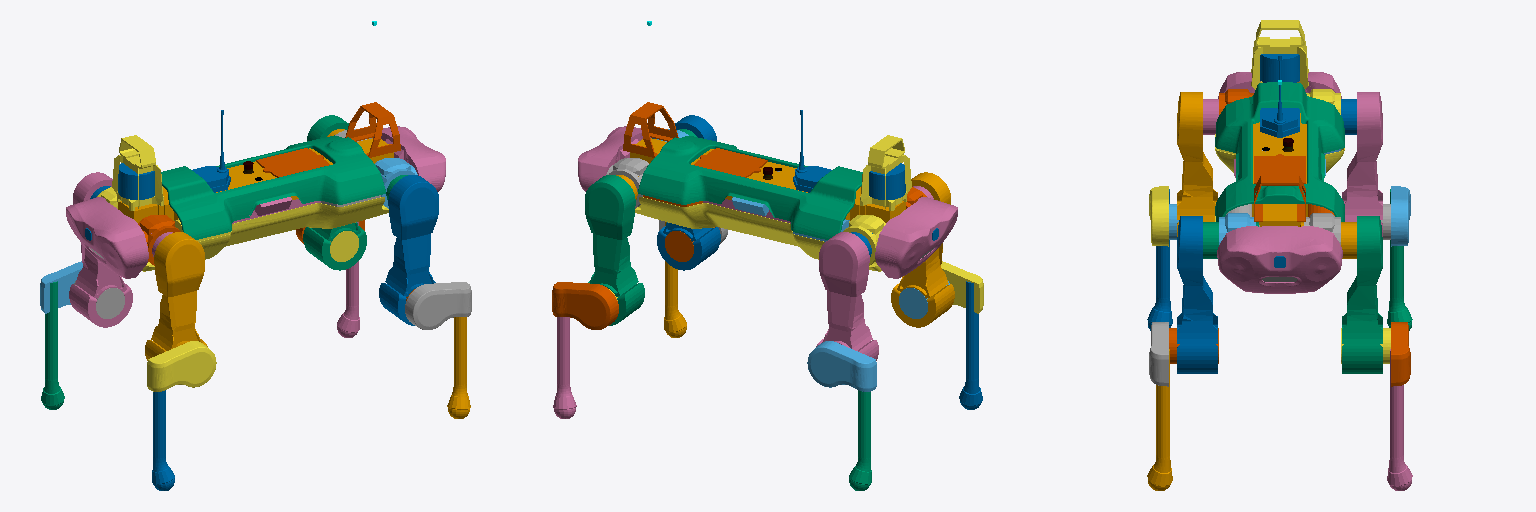
--- Facts derived from the render (not from the file) ---
Views: 3 orthographic renders of the robot side by side, from view 1: azimuth 30°, elevation 25°; view 2: azimuth 150°, elevation 25°; view 3: azimuth 270°, elevation 25°.
Model pentapede with 85 links and 84 joints (18 revolute, 66 fixed), rooted at base, posed every joint at zero.
Links seen in each view (by area): view 1: top_shell, RF_thigh_fixed, RH_thigh_fixed, face_rear, bottom_shell, LH_thigh_fixed, RH_shank_fixed, RF_shank_fixed, LF_thigh_fixed, base, lidar_cage, face_front (+13 smaller); view 2: top_shell, LF_thigh_fixed, LH_thigh_fixed, face_rear, bottom_shell, RH_thigh_fixed, LH_shank_fixed, LF_shank_fixed, RF_thigh_fixed, lidar_cage, base, face_front (+13 smaller); view 3: top_shell, face_front, LF_thigh_fixed, RF_thigh_fixed, RH_thigh_fixed, LH_thigh_fixed, base, lidar_cage, LF_FOOT, RF_FOOT, LH_FOOT, RH_FOOT (+14 smaller).
Link boxes in pixels (x1,y1,x2,y2): top_shell: (161,135,385,239); RF_thigh_fixed: (379,175,438,325); RH_thigh_fixed: (145,232,207,360); face_rear: (66,197,148,278); bottom_shell: (142,197,388,271); LH_thigh_fixed: (69,172,132,327); RH_shank_fixed: (147,341,216,391); RF_shank_fixed: (405,282,471,329); LF_thigh_fixed: (303,115,366,270); base: (118,138,393,222); lidar_cage: (112,135,163,210); face_front: (373,126,445,191); top_shell: (638,136,862,239); LF_thigh_fixed: (585,175,644,325); LH_thigh_fixed: (816,232,878,360); face_rear: (875,197,957,278); bottom_shell: (635,197,881,271); RH_thigh_fixed: (891,172,954,327); LH_shank_fixed: (807,341,876,391); LF_shank_fixed: (552,282,618,329); RF_thigh_fixed: (657,115,720,270); lidar_cage: (860,135,911,210); base: (630,138,905,222); face_front: (578,126,650,191); top_shell: (1215,82,1344,221); face_front: (1217,226,1342,293); LF_thigh_fixed: (1342,216,1382,373); RF_thigh_fixed: (1177,216,1217,373); RH_thigh_fixed: (1177,92,1217,236); LH_thigh_fixed: (1342,92,1382,236); base: (1252,113,1307,226); lidar_cage: (1251,20,1308,89); LF_FOOT: (1387,349,1412,490); RF_FOOT: (1147,349,1172,490); LH_FOOT: (1387,189,1412,330); RH_FOOT: (1147,189,1172,330).
Size in the robot's own frame: 1.05 by 0.6518 by 1.07 metres.
45 mesh visuals loaded from 25 distinct referenced files (19 Collada DAE); not drawn: 6 (reference not matched to a file when rendering).

The robot description file, URDF, robot "pentapede":
<?xml version="1.0" encoding="utf-8"?>
<!-- =================================================================================== -->
<!--   Copyright 2020 ANYbotics, https://www.anybotics.com                               -->
<!-- =================================================================================== -->
<!-- This file contains the description of the Pentapede robot. -->
<robot name="pentapede">
    <!-- Begin quadropod -->
    <!-- Base link -->
    <link name="base">
        <visual>
            <origin rpy="0 0 0" xyz="0 0 0"/>
            <geometry>
                <mesh filename="package://pentapede/meshes/base.dae" scale="1.0 1.0 1.0"/>
            </geometry>
        </visual>
        <collision>
            <origin rpy="0 0 0" xyz="0 0 0"/>
            <geometry>
                <box size="0.58 0.14 0.18"/>
            </geometry>
        </collision>
        <collision>
            <origin rpy="0 1.57079632679 0" xyz="0.2175 0.07 0"/>
            <geometry>
                <cylinder length="0.145" radius="0.09"/>
            </geometry>
        </collision>
        <collision>
            <origin rpy="0 1.57079632679 0" xyz="-0.2175 0.07 0"/>
            <geometry>
                <cylinder length="0.145" radius="0.09"/>
            </geometry>
        </collision>
        <collision>
            <origin rpy="0 1.57079632679 0" xyz="0.2175 -0.07 0"/>
            <geometry>
                <cylinder length="0.145" radius="0.09"/>
            </geometry>
        </collision>
        <collision>
            <origin rpy="0 1.57079632679 0" xyz="-0.2175 -0.07 0"/>
            <geometry>
                <cylinder length="0.145" radius="0.09"/>
            </geometry>
        </collision>
        <!-- Shell self filtering -->
        <self_filter>
            <origin rpy="0 0 0" xyz="0 0 0"/>
            <geometry>
                <box size="1.05 0.5 0.5"/>
            </geometry>
        </self_filter>
    </link>
    <!-- Fixed joint to add dummy inertia link -->
    <joint name="base_to_base_inertia" type="fixed">
        <parent link="base"/>
        <child link="base_inertia"/>
        <origin rpy="0 0 0" xyz="0 0 0"/>
    </joint>
    <!-- Dummy inertia link, because KDL cannot have inertia on the base link -->
    <link name="base_inertia">
        <inertial>
            <origin rpy="0 0 0" xyz="-0.018 -0.002 0.024"/>
            <mass value="6.222"/>
            <inertia ixx="0.017938806" ixy="0.00387963" ixz="0.001500772" iyy="0.370887745" iyz="6.8963e-05" izz="0.372497653"/>
        </inertial>
    </link>
    <!-- Fixed joint base topshell -->
    <joint name="base_top_shell" type="fixed">
        <parent link="base"/>
        <child link="top_shell"/>
        <origin rpy="0 0 0" xyz="0 0 0"/>
    </joint>
    <!-- Top shell link -->
    <link name="top_shell">
        <visual>
            <origin rpy="0 0 0" xyz="0 0 0"/>
            <geometry>
                <mesh filename="package://pentapede/meshes/top_shell.dae" scale="1.0 1.0 1.0"/>
            </geometry>
        </visual>
        <inertial>
            <origin rpy="0 0 0" xyz="-0.00777 -0.00013 0.06523"/>
            <mass value="0.534"/>
            <inertia ixx="0.00664789486" ixy="1.247923e-05" ixz="0.00053990097" iyy="0.02587392411" iyz="3.7614e-07" izz="0.03152303792"/>
        </inertial>
    </link>
    <!-- Fixed joint base topshell -->
    <joint name="base_bottom_shell" type="fixed">
        <parent link="base"/>
        <child link="bottom_shell"/>
        <origin rpy="0 0 0" xyz="0 0 0"/>
    </joint>
    <!-- Bottom shell link -->
    <link name="bottom_shell">
        <visual>
            <origin rpy="0 0 0" xyz="0 0 0"/>
            <geometry>
                <mesh filename="package://pentapede/meshes/bottom_shell.dae" scale="1.0 1.0 1.0"/>
            </geometry>
        </visual>
        <inertial>
            <origin rpy="0 0 0" xyz="-0.00333 1e-05 -0.07705"/>
            <mass value="1.15"/>
            <inertia ixx="0.00927353677" ixy="5.41222e-06" ixz="9.039821e-05" iyy="0.06134388239" iyz="2.3042e-07" izz="0.06853531465"/>
        </inertial>
    </link>
    <!-- Fixed joint base remote -->
    <joint name="base_remote" type="fixed">
        <parent link="base"/>
        <child link="remote"/>
        <origin rpy="0 0 0" xyz="0 0 0"/>
    </joint>
    <!-- Remote link -->
    <link name="remote">
        <visual>
            <origin rpy="0 0 0" xyz="0 0 0"/>
            <geometry>
                <mesh filename="package://pentapede/meshes/remote.dae" scale="1.0 1.0 1.0"/>
            </geometry>
        </visual>
        <inertial>
            <origin rpy="0 0 0" xyz="-0.171 0.002 0.096"/>
            <mass value="0.3262"/>
            <inertia ixx="0.000528486" ixy="4.547e-05" ixz="1.10327e-05" iyy="0.001165035" iyz="7.4e-07" izz="0.00124026"/>
        </inertial>
    </link>
    <!-- Fixed joint base handle -->
    <joint name="base_handle" type="fixed">
        <parent link="base"/>
        <child link="handle"/>
        <origin rpy="0 0 0" xyz="0 0 0"/>
    </joint>
    <!-- Handle link -->
    <link name="handle">
        <visual>
            <origin rpy="0 0 0" xyz="0 0 0"/>
            <geometry>
                <mesh filename="package://pentapede/meshes/handle.dae" scale="1.0 1.0 1.0"/>
            </geometry>
        </visual>
        <inertial>
            <origin rpy="0 0 0" xyz="0.37801 0.0 0.1372"/>
            <mass value="0.314"/>
            <inertia ixx="0.001525739" ixy="0.0" ixz="6.272e-05" iyy="0.00071584" iyz="1e-09" izz="0.001164779"/>
        </inertial>
    </link>
    <!-- Fixed joint base face -->
    <joint name="base_face_front" type="fixed">
        <parent link="base"/>
        <child link="face_front"/>
        <origin rpy="0 0 -0.0" xyz="0.4145 0 0"/>
    </joint>
    <!-- Shell link -->
    <link name="face_front">
        <visual>
            <origin rpy="0 0 0" xyz="0 0 0"/>
            <geometry>
                <mesh filename="package://pentapede/meshes/face.dae" scale="1.0 1.0 1.0"/>
            </geometry>
        </visual>
        <collision>
            <origin rpy="0 0 0" xyz="0.055 0 0"/>
            <geometry>
                <box size="0.11 0.14 0.18"/>
            </geometry>
        </collision>
        <collision>
            <origin rpy="0 1.57079632679 0" xyz="0.055 0.07 0"/>
            <geometry>
                <cylinder length="0.11" radius="0.09"/>
            </geometry>
        </collision>
        <collision>
            <origin rpy="0 1.57079632679 0" xyz="0.055 -0.07 0"/>
            <geometry>
                <cylinder length="0.11" radius="0.09"/>
            </geometry>
        </collision>
        <inertial>
            <origin rpy="0 0 0" xyz="0.042 -0.001 0.004"/>
            <mass value="0.73"/>
            <inertia ixx="0.005238611" ixy="1.7609e-05" ixz="7.2167e-05" iyy="0.002643098" iyz="1.9548e-05" izz="0.004325938"/>
        </inertial>
    </link>
    <!-- Camera joint -->
    <!-- Is located between the two back screw holes at ground level. -->
    <joint name="face_front_to_depth_camera_front_camera" type="fixed">
        <parent link="face_front"/>
        <child link="depth_camera_front_camera"/>
        <origin rpy="0.0 0.523598775598 0" xyz="0.04715 0.0 -0.0292"/>
    </joint>
    <!-- Camera link -->
    <link name="depth_camera_front_camera">
        <visual>
            <origin rpy="0 0 0" xyz="0.0 0.0 0.0"/>
            <geometry>
                <mesh filename="package://pentapede/meshes/depth_camera.dae" scale="1.0 1.0 1.0"/>
            </geometry>
        </visual>
        <inertial>
            <origin rpy="0 0 0" xyz="-0.021 -0.002 0.025"/>
            <mass value="0.16043"/>
            <inertia ixx="0.000637051" ixy="0.000484569" ixz="0.000424211" iyy="0.000929402" iyz="5.138e-06" izz="0.000484569"/>
        </inertial>
    </link>
    <!-- Camera parent joint -->
    <!-- Frame lies on the left ir camera according to any_realsense2_camera urdf. -->
    <joint name="depth_camera_front_camera_to_camera_parent" type="fixed">
        <parent link="depth_camera_front_camera"/>
        <child link="depth_camera_front_camera_parent"/>
        <origin rpy="0.0 0.0 0.0" xyz="0.0255 0.0175 0.0"/>
    </joint>
    <!-- Camera parent link -->
    <link name="depth_camera_front_camera_parent"/>
    <!-- Depth optical frame joint -->
    <joint name="depth_camera_front_camera_parent_to_depth_optical_frame" type="fixed">
        <parent link="depth_camera_front_camera_parent"/>
        <child link="depth_camera_front_depth_optical_frame"/>
        <origin rpy="-1.57079632679 0.0 -1.57079632679" xyz="0.0 0.0 0.0"/>
    </joint>
    <!-- Depth optical frame link -->
    <link name="depth_camera_front_depth_optical_frame"/>
    <!-- Camera color frame joint -->
    <joint name="depth_camera_front_camera_parent_to_color_frame" type="fixed">
        <parent link="depth_camera_front_camera_parent"/>
        <child link="depth_camera_front_color_frame"/>
        <origin rpy="0 0 0" xyz="0 0.015 0"/>
    </joint>
    <!-- Camera color frame link -->
    <link name="depth_camera_front_color_frame"/>
    <!-- Camera color optical joint -->
    <joint name="depth_camera_front_color_frame_to_color_optical_frame" type="fixed">
        <parent link="depth_camera_front_color_frame"/>
        <child link="depth_camera_front_color_optical_frame"/>
        <origin rpy="-1.57079632679 0.0 -1.57079632679" xyz="0.0 0.0 0.0"/>
    </joint>
    <!-- Camera color optical link -->
    <link name="depth_camera_front_color_optical_frame"/>
    <!-- Camera joint -->
    <!-- Is located in the center of the mounting points. -->
    <joint name="face_front_to_wide_angle_camera_front_camera" type="fixed">
        <parent link="face_front"/>
        <child link="wide_angle_camera_front_camera"/>
        <origin rpy="0 0 0" xyz="0.09850 0.0 0.01497"/>
    </joint>
    <!-- Camera link -->
    <link name="wide_angle_camera_front_camera">
        <visual>
            <origin rpy="0 0 0" xyz="0.0 0.0 0.0"/>
            <geometry>
                <mesh filename="package://pentapede/meshes/wide_angle_camera.dae" scale="1.0 1.0 1.0"/>
            </geometry>
        </visual>
        <inertial>
            <origin rpy="0 0 0" xyz="-0.053 -0.001 0.025"/>
            <mass value="0.287"/>
            <inertia ixx="0.000559232" ixy="1.6875e-05" ixz="0.000423761" iyy="0.000946504" iyz="1.3234e-07" izz="0.000493052"/>
        </inertial>
    </link>
    <!-- Camera parent joint -->
    <joint name="wide_angle_camera_front_camera_to_camera_parent" type="fixed">
        <parent link="wide_angle_camera_front_camera"/>
        <child link="wide_angle_camera_front_camera_parent"/>
        <origin rpy="-1.57079632679 0.0 -1.57079632679" xyz="0.0 0.0 0.0"/>
    </joint>
    <!-- Camera parent link -->
    <link name="wide_angle_camera_front_camera_parent"/>
    <!-- Fixed joint base face -->
    <joint name="base_face_rear" type="fixed">
        <parent link="base"/>
        <child link="face_rear"/>
        <origin rpy="0 0 3.14159265359" xyz="-0.4145 0 0"/>
    </joint>
    <!-- Shell link -->
    <link name="face_rear">
        <visual>
            <origin rpy="0 0 0" xyz="0 0 0"/>
            <geometry>
                <mesh filename="package://pentapede/meshes/face.dae" scale="1.0 1.0 1.0"/>
            </geometry>
        </visual>
        <collision>
            <origin rpy="0 0 0" xyz="0.055 0 0"/>
            <geometry>
                <box size="0.11 0.14 0.18"/>
            </geometry>
        </collision>
        <collision>
            <origin rpy="0 1.57079632679 0" xyz="0.055 0.07 0"/>
            <geometry>
                <cylinder length="0.11" radius="0.09"/>
            </geometry>
        </collision>
        <collision>
            <origin rpy="0 1.57079632679 0" xyz="0.055 -0.07 0"/>
            <geometry>
                <cylinder length="0.11" radius="0.09"/>
            </geometry>
        </collision>
        <inertial>
            <origin rpy="0 0 0" xyz="0.042 -0.001 0.004"/>
            <mass value="0.73"/>
            <inertia ixx="0.005238611" ixy="1.7609e-05" ixz="7.2167e-05" iyy="0.002643098" iyz="1.9548e-05" izz="0.004325938"/>
        </inertial>
    </link>
    <!-- Camera joint -->
    <!-- Is located between the two back screw holes at ground level. -->
    <joint name="face_rear_to_depth_camera_rear_camera" type="fixed">
        <parent link="face_rear"/>
        <child link="depth_camera_rear_camera"/>
        <origin rpy="0.0 0.523598775598 0" xyz="0.04715 0.0 -0.0292"/>
    </joint>
    <!-- Camera link -->
    <link name="depth_camera_rear_camera">
        <visual>
            <origin rpy="0 0 0" xyz="0.0 0.0 0.0"/>
            <geometry>
                <mesh filename="package://pentapede/meshes/depth_camera.dae" scale="1.0 1.0 1.0"/>
            </geometry>
        </visual>
        <inertial>
            <origin rpy="0 0 0" xyz="-0.021 -0.002 0.025"/>
            <mass value="0.16043"/>
            <inertia ixx="0.000637051" ixy="0.000484569" ixz="0.000424211" iyy="0.000929402" iyz="5.138e-06" izz="0.000484569"/>
        </inertial>
    </link>
    <!-- Camera parent joint -->
    <!-- Frame lies on the left ir camera according to any_realsense2_camera urdf. -->
    <joint name="depth_camera_rear_camera_to_camera_parent" type="fixed">
        <parent link="depth_camera_rear_camera"/>
        <child link="depth_camera_rear_camera_parent"/>
        <origin rpy="0.0 0.0 0.0" xyz="0.0255 0.0175 0.0"/>
    </joint>
    <!-- Camera parent link -->
    <link name="depth_camera_rear_camera_parent"/>
    <!-- Depth optical frame joint -->
    <joint name="depth_camera_rear_camera_parent_to_depth_optical_frame" type="fixed">
        <parent link="depth_camera_rear_camera_parent"/>
        <child link="depth_camera_rear_depth_optical_frame"/>
        <origin rpy="-1.57079632679 0.0 -1.57079632679" xyz="0.0 0.0 0.0"/>
    </joint>
    <!-- Depth optical frame link -->
    <link name="depth_camera_rear_depth_optical_frame"/>
    <!-- Camera color frame joint -->
    <joint name="depth_camera_rear_camera_parent_to_color_frame" type="fixed">
        <parent link="depth_camera_rear_camera_parent"/>
        <child link="depth_camera_rear_color_frame"/>
        <origin rpy="0 0 0" xyz="0 0.015 0"/>
    </joint>
    <!-- Camera color frame link -->
    <link name="depth_camera_rear_color_frame"/>
    <!-- Camera color optical joint -->
    <joint name="depth_camera_rear_color_frame_to_color_optical_frame" type="fixed">
        <parent link="depth_camera_rear_color_frame"/>
        <child link="depth_camera_rear_color_optical_frame"/>
        <origin rpy="-1.57079632679 0.0 -1.57079632679" xyz="0.0 0.0 0.0"/>
    </joint>
    <!-- Camera color optical link -->
    <link name="depth_camera_rear_color_optical_frame"/>
    <!-- Camera joint -->
    <!-- Is located in the center of the mounting points. -->
    <joint name="face_rear_to_wide_angle_camera_rear_camera" type="fixed">
        <parent link="face_rear"/>
        <child link="wide_angle_camera_rear_camera"/>
        <origin rpy="0 0 0" xyz="0.09850 0.0 0.01497"/>
    </joint>
    <!-- Camera link -->
    <link name="wide_angle_camera_rear_camera">
        <visual>
            <origin rpy="0 0 0" xyz="0.0 0.0 0.0"/>
            <geometry>
                <mesh filename="package://pentapede/meshes/wide_angle_camera.dae" scale="1.0 1.0 1.0"/>
            </geometry>
        </visual>
        <inertial>
            <origin rpy="0 0 0" xyz="-0.053 -0.001 0.025"/>
            <mass value="0.287"/>
            <inertia ixx="0.000559232" ixy="1.6875e-05" ixz="0.000423761" iyy="0.000946504" iyz="1.3234e-07" izz="0.000493052"/>
        </inertial>
    </link>
    <!-- Camera parent joint -->
    <joint name="wide_angle_camera_rear_camera_to_camera_parent" type="fixed">
        <parent link="wide_angle_camera_rear_camera"/>
        <child link="wide_angle_camera_rear_camera_parent"/>
        <origin rpy="-1.57079632679 0.0 -1.57079632679" xyz="0.0 0.0 0.0"/>
    </joint>
    <!-- Camera parent link -->
    <link name="wide_angle_camera_rear_camera_parent"/>
    <!-- Fixed joint base battery -->
    <joint name="base_battery" type="fixed">
        <parent link="base"/>
        <child link="battery"/>
        <origin rpy="0 0 0" xyz="0 0 0"/>
    </joint>
    <!-- Shell link -->
    <link name="battery">
        <visual>
            <origin rpy="0 0 0" xyz="0 0 0"/>
            <geometry>
                <mesh filename="package://pentapede/meshes/battery.dae" scale="1.0 1.0 1.0"/>
            </geometry>
        </visual>
        <inertial>
            <origin rpy="0 0 0" xyz="-0.00067 -0.00023 -0.03362"/>
            <mass value="5.53425"/>
            <inertia ixx="0.00749474794" ixy="0.00016686282" ixz="7.82763e-05" iyy="0.0722338913" iyz="1.42902e-06" izz="0.07482717535"/>
        </inertial>
    </link>
    <!-- Fixed joint to add docking  -->
    <joint name="base_to_docking_hatch_cover" type="fixed">
        <parent link="base"/>
        <child link="docking_hatch_cover"/>
        <origin rpy="0 0 0" xyz="0.343 0.0 -0.07"/>
    </joint>
    <!-- Hatch cover link -->
    <link name="docking_hatch_cover">
        <!--  TODO(fgiraldez): add visual    -->
        <inertial>
            <origin rpy="0 0 0" xyz="-0.003 0.0 0.005"/>
            <mass value="0.065"/>
            <inertia ixx="0.00063283" ixy="0.0" ixz="3.45e-07" iyy="0.00110971" iyz="0.0" izz="0.00171883"/>
        </inertial>
    </link>
    <link name="imu_link">
        <visual>
            <origin rpy="0 0 0" xyz="0 0 0.005"/>
            <geometry>
                <box size="0.024 0.024 0.01"/>
            </geometry>
            <material name="orange"/>
        </visual>
        <collision>
            <origin rpy="0 0 0" xyz="0 0 0.005"/>
            <geometry>
                <box size="0.024 0.024 0.01"/>
            </geometry>
        </collision>
        <inertial>
            <mass value="0.01"/>
            <origin xyz="0 0 0"/>
            <inertia ixx="5.63333333333e-07" ixy="0.0" ixz="0.0" iyy="9.6e-07" iyz="0.0" izz="5.63333333333e-07"/>
        </inertial>
    </link>
    <joint name="imu_joint" type="fixed">
        <parent link="base"/>
        <child link="imu_link"/>
        <origin rpy="0.0 0.0 1.57079632679" xyz="0.2488 0.00835 0.04628"/>
    </joint>
    <!-- Camera joint -->
    <!-- Is located between the two back screw holes at ground level. -->
    <joint name="base_to_depth_camera_left_camera" type="fixed">
        <parent link="base"/>
        <child link="depth_camera_left_camera"/>
        <origin rpy="0.0 0.523598775598 1.57079632679" xyz="0.0 0.07646 0.02905"/>
    </joint>
    <!-- Camera link -->
    <link name="depth_camera_left_camera">
        <visual>
            <origin rpy="0 0 0" xyz="0.0 0.0 0.0"/>
            <geometry>
                <mesh filename="package://pentapede/meshes/depth_camera.dae" scale="1.0 1.0 1.0"/>
            </geometry>
        </visual>
        <inertial>
            <origin rpy="0 0 0" xyz="-0.021 -0.002 0.025"/>
            <mass value="0.16043"/>
            <inertia ixx="0.000637051" ixy="0.000484569" ixz="0.000424211" iyy="0.000929402" iyz="5.138e-06" izz="0.000484569"/>
        </inertial>
    </link>
    <!-- Camera parent joint -->
    <!-- Frame lies on the left ir camera according to any_realsense2_camera urdf. -->
    <joint name="depth_camera_left_camera_to_camera_parent" type="fixed">
        <parent link="depth_camera_left_camera"/>
        <child link="depth_camera_left_camera_parent"/>
        <origin rpy="0.0 0.0 0.0" xyz="0.0255 0.0175 0.0"/>
    </joint>
    <!-- Camera parent link -->
    <link name="depth_camera_left_camera_parent"/>
    <!-- Depth optical frame joint -->
    <joint name="depth_camera_left_camera_parent_to_depth_optical_frame" type="fixed">
        <parent link="depth_camera_left_camera_parent"/>
        <child link="depth_camera_left_depth_optical_frame"/>
        <origin rpy="-1.57079632679 0.0 -1.57079632679" xyz="0.0 0.0 0.0"/>
    </joint>
    <!-- Depth optical frame link -->
    <link name="depth_camera_left_depth_optical_frame"/>
    <!-- Camera color frame joint -->
    <joint name="depth_camera_left_camera_parent_to_color_frame" type="fixed">
        <parent link="depth_camera_left_camera_parent"/>
        <child link="depth_camera_left_color_frame"/>
        <origin rpy="0 0 0" xyz="0 0.015 0"/>
    </joint>
    <!-- Camera color frame link -->
    <link name="depth_camera_left_color_frame"/>
    <!-- Camera color optical joint -->
    <joint name="depth_camera_left_color_frame_to_color_optical_frame" type="fixed">
        <parent link="depth_camera_left_color_frame"/>
        <child link="depth_camera_left_color_optical_frame"/>
        <origin rpy="-1.57079632679 0.0 -1.57079632679" xyz="0.0 0.0 0.0"/>
    </joint>
    <!-- Camera color optical link -->
    <link name="depth_camera_left_color_optical_frame"/>
    <!-- Camera joint -->
    <!-- Is located between the two back screw holes at ground level. -->
    <joint name="base_to_depth_camera_right_camera" type="fixed">
        <parent link="base"/>
        <child link="depth_camera_right_camera"/>
        <origin rpy="0.0 0.523598775598 -1.57079632679" xyz="0.0 -0.07646 0.02905"/>
    </joint>
    <!-- Camera link -->
    <link name="depth_camera_right_camera">
        <visual>
            <origin rpy="0 0 0" xyz="0.0 0.0 0.0"/>
            <geometry>
                <mesh filename="package://pentapede/meshes/depth_camera.dae" scale="1.0 1.0 1.0"/>
            </geometry>
        </visual>
        <inertial>
            <origin rpy="0 0 0" xyz="-0.021 -0.002 0.025"/>
            <mass value="0.16043"/>
            <inertia ixx="0.000637051" ixy="0.000484569" ixz="0.000424211" iyy="0.000929402" iyz="5.138e-06" izz="0.000484569"/>
        </inertial>
    </link>
    <!-- Camera parent joint -->
    <!-- Frame lies on the left ir camera according to any_realsense2_camera urdf. -->
    <joint name="depth_camera_right_camera_to_camera_parent" type="fixed">
        <parent link="depth_camera_right_camera"/>
        <child link="depth_camera_right_camera_parent"/>
        <origin rpy="0.0 0.0 0.0" xyz="0.0255 0.0175 0.0"/>
    </joint>
    <!-- Camera parent link -->
    <link name="depth_camera_right_camera_parent"/>
    <!-- Depth optical frame joint -->
    <joint name="depth_camera_right_camera_parent_to_depth_optical_frame" type="fixed">
        <parent link="depth_camera_right_camera_parent"/>
        <child link="depth_camera_right_depth_optical_frame"/>
        <origin rpy="-1.57079632679 0.0 -1.57079632679" xyz="0.0 0.0 0.0"/>
    </joint>
    <!-- Depth optical frame link -->
    <link name="depth_camera_right_depth_optical_frame"/>
    <!-- Camera color frame joint -->
    <joint name="depth_camera_right_camera_parent_to_color_frame" type="fixed">
        <parent link="depth_camera_right_camera_parent"/>
        <child link="depth_camera_right_color_frame"/>
        <origin rpy="0 0 0" xyz="0 0.015 0"/>
    </joint>
    <!-- Camera color frame link -->
    <link name="depth_camera_right_color_frame"/>
    <!-- Camera color optical joint -->
    <joint name="depth_camera_right_color_frame_to_color_optical_frame" type="fixed">
        <parent link="depth_camera_right_color_frame"/>
        <child link="depth_camera_right_color_optical_frame"/>
        <origin rpy="-1.57079632679 0.0 -1.57079632679" xyz="0.0 0.0 0.0"/>
    </joint>
    <!-- Camera color optical link -->
    <link name="depth_camera_right_color_optical_frame"/>
    <!-- parent to cage joint, located between mounting plate on trunk and the cage -->
    <joint name="base_to_lidar_cage" type="fixed">
        <parent link="base"/>
        <child link="lidar_cage"/>
        <origin rpy="0 0 0" xyz="-0.364 0.0 0.0735"/>
    </joint>
    <!-- Velodyne cage link -->
    <link name="lidar_cage">
        <visual>
            <origin rpy="0.0 0.0 0.0" xyz="0.0 0.0 0.0"/>
            <geometry>
                <mesh filename="package://pentapede/meshes/lidar_cage.dae" scale="1.0 1.0 1.0"/>
            </geometry>
        </visual>
        <collision>
            <origin rpy="0 0 0" xyz="0 0 0.06"/>
            <geometry>
                <cylinder length="0.12" radius="0.07"/>
            </geometry>
        </collision>
        <inertial>
            <origin rpy="0.0 0.0 0.0" xyz="0.002 0.0 0.099"/>
            <mass value="0.545"/>
            <inertia ixx="0.003156254" ixy="0.0" ixz="1.0992e-05" iyy="0.002357216" iyz="0.0" izz="0.001326455"/>
        </inertial>
    </link>
    <!-- parent to sensor joint -->
    <joint name="lidar_cage_to_lidar" type="fixed">
        <parent link="lidar_cage"/>
        <child link="lidar"/>
        <origin rpy="0.0 0.0 -1.57079632679" xyz="0.0 0.0 0.0687"/>
    </joint>
    <!-- Velodyne sensor link -->
    <link name="lidar">
        <inertial>
            <origin rpy="0.0 0.0 0.0" xyz="-0.012 0.001 -0.008"/>
            <mass value="0.695"/>
            <inertia ixx="0.000846765" ixy="6.9565e-05" ixz="0.00027111" iyy="0.001367583" iyz="5.8984e-05" izz="0.001363673"/>
        </inertial>
        <visual>
            <origin xyz="0 0 0"/>
            <geometry>
                <mesh filename="package://pentapede/meshes/lidar.dae"/>
            </geometry>
        </visual>
    </link>
    <!-- joint base HAA -->
    <joint name="base_LF_HAA" type="fixed">
        <parent link="base"/>
        <child link="LF_HAA"/>
        <origin rpy="2.61799387799 0 0.0" xyz="0.2999 0.104 0.0"/>
    </joint>
    <!-- Drive link -->
    <link name="LF_HAA">
        <visual>
            <origin rpy="0 0 0" xyz="0 0 0"/>
            <geometry>
                <mesh filename="package://pentapede/meshes/drive.dae" scale="1.0 1.0 1.0"/>
            </geometry>
        </visual>
        <inertial>
            <origin rpy="0 0 0" xyz="-0.063 7e-05 0.00046"/>
            <mass value="2.04"/>
            <inertia ixx="0.001053013" ixy="4.527e-05" ixz="8.855e-05" iyy="0.001805509" iyz="9.909e-05" izz="0.001765827"/>
        </inertial>
    </link>
    <!-- joint Drive output -->
    <joint name="LF_HAA" type="revolute">
        <parent link="LF_HAA"/>
        <child link="LF_HIP"/>
        <origin rpy="0 0 0" xyz="0 0 0"/>
        <axis xyz="1 0 0"/>
        <limit effort="80.0" lower="-0.72" upper="0.49" velocity="20"/>
        <dynamics damping="0.0" friction="0.0"/>
    </joint>
    <!-- Drive output link -->
    <link name="LF_HIP">
        <inertial>
            <origin rpy="0 0 0" xyz="0 0 0"/>
            <mass value="0.001"/>
            <inertia ixx="0.000001" ixy="0.0" ixz="0.0" iyy="0.000001" iyz="0.0" izz="0.000001"/>
        </inertial>
    </link>
    <!-- joint HAA hip -->
    <joint name="LF_HIP_LF_hip_fixed" type="fixed">
        <parent link="LF_HIP"/>
        <child link="LF_hip_fixed"/>
        <origin rpy="-2.61799387799 0 0.0" xyz="0 0 0"/>
    </joint>
    <!-- Hip link -->
    <link name="LF_hip_fixed">
        <visual>
            <origin rpy="0 0 0.0" xyz="0 0 0"/>
            <geometry>
                <mesh filename="package://pentapede/meshes/hip_l.dae" scale="1.0 1.0 1.0"/>
            </geometry>
        </visual>
        <inertial>
            <origin rpy="0 0 0" xyz="0.048 0.008 -0.003"/>
            <mass value="0.74"/>
            <inertia ixx="0.001393106" ixy="8.4012e-05" ixz="2.3378e-05" iyy="0.003798579" iyz="7.1319e-05" izz="0.003897509"/>
        </inertial>
    </link>
    <!-- joint hip HFE -->
    <joint name="LF_hip_fixed_LF_HFE" type="fixed">
        <parent link="LF_hip_fixed"/>
        <child link="LF_HFE"/>
        <origin rpy="0 0 1.57079632679" xyz="0.0599 0.08381 0.0"/>
    </joint>
    <!-- Drive link -->
    <link name="LF_HFE">
        <visual>
            <origin rpy="0 0 0" xyz="0 0 0"/>
            <geometry>
                <mesh filename="package://pentapede/meshes/drive.dae" scale="1.0 1.0 1.0"/>
            </geometry>
        </visual>
        <collision>
            <origin rpy="0 1.57079632679 0" xyz="-0.07 0 0"/>
            <geometry>
                <cylinder length="0.14" radius="0.05"/>
            </geometry>
        </collision>
        <inertial>
            <origin rpy="0 0 0" xyz="-0.063 7e-05 0.00046"/>
            <mass value="2.04"/>
            <inertia ixx="0.001053013" ixy="4.527e-05" ixz="8.855e-05" iyy="0.001805509" iyz="9.909e-05" izz="0.001765827"/>
        </inertial>
    </link>
    <!-- joint Drive output -->
    <joint name="LF_HFE" type="revolute">
        <parent link="LF_HFE"/>
        <child link="LF_THIGH"/>
        <origin rpy="0 0 0" xyz="0 0 0"/>
        <axis xyz="1 0 0"/>
        <limit effort="80.0" lower="-9.42477796077" upper="9.42477796077" velocity="20"/>
        <dynamics damping="0.0" friction="0.0"/>
    </joint>
    <!-- Drive output link -->
    <link name="LF_THIGH">
        <inertial>
            <origin rpy="0 0 0" xyz="0 0 0"/>
            <mass value="0.001"/>
            <inertia ixx="0.000001" ixy="0.0" ixz="0.0" iyy="0.000001" iyz="0.0" izz="0.000001"/>
        </inertial>
    </link>
    <!-- joint HFE thigh -->
    <joint name="LF_THIGH_LF_thigh_fixed" type="fixed">
        <parent link="LF_THIGH"/>
        <child link="LF_thigh_fixed"/>
        <origin rpy="0 0 -1.57079632679" xyz="0 0 0"/>
    </joint>
    <!-- Thigh link -->
    <link name="LF_thigh_fixed">
        <visual>
            <origin rpy="0 0 0.0" xyz="0 0 0"/>
            <geometry>
                <mesh filename="package://pentapede/meshes/thigh.dae" scale="1.0 1.0 1.0"/>
            </geometry>
        </visual>
        <!-- Thigh collision -->
        <collision>
            <origin rpy="1.57079632679 0 0" xyz="0 0.04 0"/>
            <geometry>
                <cylinder length="0.08" radius="0.065"/>
            </geometry>
        </collision>
        <collision>
            <origin rpy="0 0 0" xyz="0 0.03 -0.1413135"/>
            <geometry>
                <box size="0.075 0.06 0.282627"/>
            </geometry>
        </collision>
        <inertial>
            <origin rpy="0 0 0" xyz="0.0 0.018 -0.169"/>
            <mass value="1.03"/>
            <inertia ixx="0.018644469" ixy="5.2e-08" ixz="1.0157e-05" iyy="0.019312599" iyz="0.002520077" izz="0.002838361"/>
        </inertial>
    </link>
    <!-- joint thigh KFE -->
    <joint name="LF_thigh_fixed_LF_KFE" type="fixed">
        <parent link="LF_thigh_fixed"/>
        <child link="LF_KFE"/>
        <origin rpy="0 0 1.57079632679" xyz="0.0 0.1003 -0.285"/>
    </joint>
    <!-- Drive link -->
    <link name="LF_KFE">
        <visual>
            <origin rpy="0 0 0" xyz="0 0 0"/>
            <geometry>
                <mesh filename="package://pentapede/meshes/drive.dae" scale="1.0 1.0 1.0"/>
            </geometry>
        </visual>
        <collision>
            <origin rpy="0 1.57079632679 0" xyz="-0.07 0 0"/>
            <geometry>
                <cylinder length="0.14" radius="0.05"/>
            </geometry>
        </collision>
        <inertial>
            <origin rpy="0 0 0" xyz="-0.063 7e-05 0.00046"/>
            <mass value="2.04"/>
            <inertia ixx="0.001053013" ixy="4.527e-05" ixz="8.855e-05" iyy="0.001805509" iyz="9.909e-05" izz="0.001765827"/>
        </inertial>
    </link>
    <!-- joint Drive output -->
    <joint name="LF_KFE" type="revolute">
        <parent link="LF_KFE"/>
        <child link="LF_SHANK"/>
        <origin rpy="0 0 0" xyz="0 0 0"/>
        <axis xyz="1 0 0"/>
        <limit effort="80.0" lower="-9.42477796077" upper="9.42477796077" velocity="20"/>
        <dynamics damping="0.0" friction="0.0"/>
    </joint>
    <!-- Drive output link -->
    <link name="LF_SHANK">
        <inertial>
            <origin rpy="0 0 0" xyz="0 0 0"/>
            <mass value="0.001"/>
            <inertia ixx="0.000001" ixy="0.0" ixz="0.0" iyy="0.000001" iyz="0.0" izz="0.000001"/>
        </inertial>
    </link>
    <!-- joint KFE shank -->
    <joint name="LF_shank_LF_shank_fixed" type="fixed">
        <parent link="LF_SHANK"/>
        <child link="LF_shank_fixed"/>
        <origin rpy="0 0 -1.57079632679" xyz="0 0 0"/>
    </joint>
    <!-- Shank link -->
    <link name="LF_shank_fixed">
        <visual>
            <origin rpy="0 0 0.0" xyz="0 0 0"/>
            <geometry>
                <mesh filename="package://pentapede/meshes/shank_l.dae" scale="1.0 1.0 1.0"/>
            </geometry>
        </visual>
        <!-- Shank collision -->
        <!-- <collision>
            <origin rpy="1.57079632679 0 0" xyz="0 0.02 0"/>
            <geometry>
                <cylinder length="0.04" radius="0.06"/>
            </geometry>
        </collision>
        <collision>
            <origin rpy="1.57079632679 0 0" xyz="0.057499 0.02 0"/>
            <geometry>
                <box size="0.114998 0.0675 0.04"/>
            </geometry>
        </collision> -->
        <inertial>
            <origin rpy="0 0 0" xyz="0.03463 0.00688 0.00098"/>
            <mass value="0.33742"/>
            <inertia ixx="0.00032748005" ixy="2.142561e-05" ixz="1.33942e-05" iyy="0.00110974122" iyz="7.601e-08" izz="0.00089388521"/>
        </inertial>
    </link>
    <!-- Leg configurations: xx (knees bent inwards), xo (knees bent backwards) -->
    <!-- joint shank foot -->
    <joint name="LF_shank_fixed_LF_FOOT" type="fixed">
        <parent link="LF_shank_fixed"/>
        <child link="LF_FOOT"/>
        <origin rpy="0 0 0" xyz="0.08795 0.01305 -0.33797"/>
    </joint>
    <!-- Foot link -->
    <link name="LF_FOOT">
        <visual>
            <origin rpy="0 0 -0.785398163397" xyz="0 0 0"/>
            <geometry>
                <mesh filename="package://pentapede/meshes/foot.dae" scale="1.0 1.0 1.0"/>
            </geometry>
        </visual>
        <!-- Adapter collision -->
        <collision>
            <origin rpy="0 0 0" xyz="0 0 0.168985"/>
            <geometry>
                <cylinder length="0.282504" radius="0.0175"/>
            </geometry>
        </collision>
        <!-- Foot collision -->
        <collision>
            <origin xyz="0 0 0.0225"/>
            <geometry>
                <sphere radius="0.03"/>
            </geometry>
        </collision>
        <inertial>
            <origin rpy="0 0 0" xyz="0.00948 -0.00948 0.1468"/>
            <mass value="0.25"/>
            <inertia ixx="0.00317174097" ixy="2.63048e-06" ixz="6.815581e-05" iyy="0.00317174092" iyz="6.815583e-05" izz="8.319196e-05"/>
        </inertial>
    </link>
    <!-- joint base HAA -->
    <joint name="base_RF_HAA" type="fixed">
        <parent link="base"/>
        <child link="RF_HAA"/>
        <origin rpy="-2.61799387799 0 0.0" xyz="0.2999 -0.104 0.0"/>
    </joint>
    <!-- Drive link -->
    <link name="RF_HAA">
        <visual>
            <origin rpy="0 0 0" xyz="0 0 0"/>
            <geometry>
                <mesh filename="package://pentapede/meshes/drive.dae" scale="1.0 1.0 1.0"/>
            </geometry>
        </visual>
        <inertial>
            <origin rpy="0 0 0" xyz="-0.063 7e-05 0.00046"/>
            <mass value="2.04"/>
            <inertia ixx="0.001053013" ixy="4.527e-05" ixz="8.855e-05" iyy="0.001805509" iyz="9.909e-05" izz="0.001765827"/>
        </inertial>
    </link>
    <!-- joint Drive output -->
    <joint name="RF_HAA" type="revolute">
        <parent link="RF_HAA"/>
        <child link="RF_HIP"/>
        <origin rpy="0 0 0" xyz="0 0 0"/>
        <axis xyz="1 0 0"/>
        <limit effort="80.0" lower="-0.49" upper="0.72" velocity="20"/>
        <dynamics damping="0.0" friction="0.0"/>
    </joint>
    <!-- Drive output link -->
    <link name="RF_HIP">
        <inertial>
            <origin rpy="0 0 0" xyz="0 0 0"/>
            <mass value="0.001"/>
            <inertia ixx="0.000001" ixy="0.0" ixz="0.0" iyy="0.000001" iyz="0.0" izz="0.000001"/>
        </inertial>
    </link>
    <!-- joint HAA hip -->
    <joint name="RF_HIP_RF_hip_fixed" type="fixed">
        <parent link="RF_HIP"/>
        <child link="RF_hip_fixed"/>
        <origin rpy="2.61799387799 0 0.0" xyz="0 0 0"/>
    </joint>
    <!-- Hip link -->
    <link name="RF_hip_fixed">
        <visual>
            <origin rpy="0 0 0.0" xyz="0 0 0"/>
            <geometry>
                <mesh filename="package://pentapede/meshes/hip_r.dae" scale="1.0 1.0 1.0"/>
            </geometry>
        </visual>
        <inertial>
            <origin rpy="0 0 0" xyz="0.048 -0.008 -0.003"/>
            <mass value="0.74"/>
            <inertia ixx="0.001393106" ixy="-8.4012e-05" ixz="2.3378e-05" iyy="0.003798579" iyz="-7.1319e-05" izz="0.003897509"/>
        </inertial>
    </link>
    <!-- joint hip HFE -->
    <joint name="RF_hip_fixed_RF_HFE" type="fixed">
        <parent link="RF_hip_fixed"/>
        <child link="RF_HFE"/>
        <origin rpy="0 0 -1.57079632679" xyz="0.0599 -0.08381 0.0"/>
    </joint>
    <!-- Drive link -->
    <link name="RF_HFE">
        <visual>
            <origin rpy="0 0 0" xyz="0 0 0"/>
            <geometry>
                <mesh filename="package://pentapede/meshes/drive.dae" scale="1.0 1.0 1.0"/>
            </geometry>
        </visual>
        <collision>
            <origin rpy="0 1.57079632679 0" xyz="-0.07 0 0"/>
            <geometry>
                <cylinder length="0.14" radius="0.05"/>
            </geometry>
        </collision>
        <inertial>
            <origin rpy="0 0 0" xyz="-0.063 7e-05 0.00046"/>
            <mass value="2.04"/>
            <inertia ixx="0.001053013" ixy="4.527e-05" ixz="8.855e-05" iyy="0.001805509" iyz="9.909e-05" izz="0.001765827"/>
        </inertial>
    </link>
    <!-- joint Drive output -->
    <joint name="RF_HFE" type="revolute">
        <parent link="RF_HFE"/>
        <child link="RF_THIGH"/>
        <origin rpy="0 0 0" xyz="0 0 0"/>
        <axis xyz="-1 0 0"/>
        <limit effort="80.0" lower="-9.42477796077" upper="9.42477796077" velocity="20"/>
        <dynamics damping="0.0" friction="0.0"/>
    </joint>
    <!-- Drive output link -->
    <link name="RF_THIGH">
        <inertial>
            <origin rpy="0 0 0" xyz="0 0 0"/>
            <mass value="0.001"/>
            <inertia ixx="0.000001" ixy="0.0" ixz="0.0" iyy="0.000001" iyz="0.0" izz="0.000001"/>
        </inertial>
    </link>
    <!-- joint HFE thigh -->
    <joint name="RF_THIGH_RF_thigh_fixed" type="fixed">
        <parent link="RF_THIGH"/>
        <child link="RF_thigh_fixed"/>
        <origin rpy="0 0 1.57079632679" xyz="0 0 0"/>
    </joint>
    <!-- Thigh link -->
    <link name="RF_thigh_fixed">
        <visual>
            <origin rpy="0 0 -3.14159265359" xyz="0 0 0"/>
            <geometry>
                <mesh filename="package://pentapede/meshes/thigh.dae" scale="1.0 1.0 1.0"/>
            </geometry>
        </visual>
        <!-- Thigh collision -->
        <collision>
            <origin rpy="1.57079632679 0 0" xyz="0 -0.04 0"/>
            <geometry>
                <cylinder length="0.08" radius="0.065"/>
            </geometry>
        </collision>
        <collision>
            <origin rpy="0 0 0" xyz="0 -0.03 -0.1413135"/>
            <geometry>
                <box size="0.075 0.06 0.282627"/>
            </geometry>
        </collision>
        <inertial>
            <origin rpy="0 0 0" xyz="0.0 -0.018 -0.169"/>
            <mass value="1.03"/>
            <inertia ixx="0.018644469" ixy="-5.2e-08" ixz="1.0157e-05" iyy="0.019312599" iyz="-0.002520077" izz="0.002838361"/>
        </inertial>
    </link>
    <!-- joint thigh KFE -->
    <joint name="RF_thigh_fixed_RF_KFE" type="fixed">
        <parent link="RF_thigh_fixed"/>
        <child link="RF_KFE"/>
        <origin rpy="0 0 -1.57079632679" xyz="0.0 -0.1003 -0.285"/>
    </joint>
    <!-- Drive link -->
    <link name="RF_KFE">
        <visual>
            <origin rpy="0 0 0" xyz="0 0 0"/>
            <geometry>
                <mesh filename="package://pentapede/meshes/drive.dae" scale="1.0 1.0 1.0"/>
            </geometry>
        </visual>
        <collision>
            <origin rpy="0 1.57079632679 0" xyz="-0.07 0 0"/>
            <geometry>
                <cylinder length="0.14" radius="0.05"/>
            </geometry>
        </collision>
        <inertial>
            <origin rpy="0 0 0" xyz="-0.063 7e-05 0.00046"/>
            <mass value="2.04"/>
            <inertia ixx="0.001053013" ixy="4.527e-05" ixz="8.855e-05" iyy="0.001805509" iyz="9.909e-05" izz="0.001765827"/>
        </inertial>
    </link>
    <!-- joint Drive output -->
    <joint name="RF_KFE" type="revolute">
        <parent link="RF_KFE"/>
        <child link="RF_SHANK"/>
        <origin rpy="0 0 0" xyz="0 0 0"/>
        <axis xyz="-1 0 0"/>
        <limit effort="80.0" lower="-9.42477796077" upper="9.42477796077" velocity="20"/>
        <dynamics damping="0.0" friction="0.0"/>
    </joint>
    <!-- Drive output link -->
    <link name="RF_SHANK">
        <inertial>
            <origin rpy="0 0 0" xyz="0 0 0"/>
            <mass value="0.001"/>
            <inertia ixx="0.000001" ixy="0.0" ixz="0.0" iyy="0.000001" iyz="0.0" izz="0.000001"/>
        </inertial>
    </link>
    <!-- joint KFE shank -->
    <joint name="RF_shank_RF_shank_fixed" type="fixed">
        <parent link="RF_SHANK"/>
        <child link="RF_shank_fixed"/>
        <origin rpy="0 0 1.57079632679" xyz="0 0 0"/>
    </joint>
    <!-- Shank link -->
    <link name="RF_shank_fixed">
        <visual>
            <origin rpy="0 0 0.0" xyz="0 0 0"/>
            <geometry>
                <mesh filename="package://pentapede/meshes/shank_r.dae" scale="1.0 1.0 1.0"/>
            </geometry>
        </visual>
        <!-- Shank collision -->
        <!-- <collision>
            <origin rpy="1.57079632679 0 0" xyz="0 -0.02 0"/>
            <geometry>
                <cylinder length="0.04" radius="0.06"/>
            </geometry>
        </collision>
        <collision>
            <origin rpy="1.57079632679 0 0" xyz="0.057499 -0.02 0"/>
            <geometry>
                <box size="0.114998 0.0675 0.04"/>
            </geometry>
        </collision> -->
        <inertial>
            <origin rpy="0 0 0" xyz="0.03463 -0.00688 0.00098"/>
            <mass value="0.33742"/>
            <inertia ixx="0.00032748005" ixy="-2.142561e-05" ixz="1.33942e-05" iyy="0.00110974122" iyz="-7.601e-08" izz="0.00089388521"/>
        </inertial>
    </link>
    <!-- Leg configurations: xx (knees bent inwards), xo (knees bent backwards) -->
    <!-- joint shank foot -->
    <joint name="RF_shank_fixed_RF_FOOT" type="fixed">
        <parent link="RF_shank_fixed"/>
        <child link="RF_FOOT"/>
        <origin rpy="0 0 0" xyz="0.08795 -0.01305 -0.33797"/>
    </joint>
    <!-- Foot link -->
    <link name="RF_FOOT">
        <visual>
            <origin rpy="0 0 0.785398163397" xyz="0 0 0"/>
            <geometry>
                <mesh filename="package://pentapede/meshes/foot.dae" scale="1.0 1.0 1.0"/>
            </geometry>
        </visual>
        <!-- Adapter collision -->
        <collision>
            <origin rpy="0 0 0" xyz="0 0 0.168985"/>
            <geometry>
                <cylinder length="0.282504" radius="0.0175"/>
            </geometry>
        </collision>
        <!-- Foot collision -->
        <collision>
            <origin xyz="0 0 0.0225"/>
            <geometry>
                <sphere radius="0.03"/>
            </geometry>
        </collision>
        <inertial>
            <origin rpy="0 0 0" xyz="0.00948 0.00948 0.1468"/>
            <mass value="0.25"/>
            <inertia ixx="0.00317174097" ixy="-2.63048e-06" ixz="6.815581e-05" iyy="0.00317174092" iyz="-6.815583e-05" izz="8.319196e-05"/>
        </inertial>
    </link>
    <!-- joint base HAA -->
    <joint name="base_LH_HAA" type="fixed">
        <parent link="base"/>
        <child link="LH_HAA"/>
        <origin rpy="-2.61799387799 0 -3.14159265359" xyz="-0.2999 0.104 0.0"/>
    </joint>
    <!-- Drive link -->
    <link name="LH_HAA">
        <visual>
            <origin rpy="0 0 0" xyz="0 0 0"/>
            <geometry>
                <mesh filename="package://pentapede/meshes/drive.dae" scale="1.0 1.0 1.0"/>
            </geometry>
        </visual>
        <inertial>
            <origin rpy="0 0 0" xyz="-0.063 7e-05 0.00046"/>
            <mass value="2.04"/>
            <inertia ixx="0.001053013" ixy="4.527e-05" ixz="8.855e-05" iyy="0.001805509" iyz="9.909e-05" izz="0.001765827"/>
        </inertial>
    </link>
    <!-- joint Drive output -->
    <joint name="LH_HAA" type="revolute">
        <parent link="LH_HAA"/>
        <child link="LH_HIP"/>
        <origin rpy="0 0 0" xyz="0 0 0"/>
        <axis xyz="-1 0 0"/>
        <limit effort="80.0" lower="-0.72" upper="0.49" velocity="20"/>
        <dynamics damping="0.0" friction="0.0"/>
    </joint>
    <!-- Drive output link -->
    <link name="LH_HIP">
        <inertial>
            <origin rpy="0 0 0" xyz="0 0 0"/>
            <mass value="0.001"/>
            <inertia ixx="0.000001" ixy="0.0" ixz="0.0" iyy="0.000001" iyz="0.0" izz="0.000001"/>
        </inertial>
    </link>
    <!-- joint HAA hip -->
    <joint name="LH_HIP_LH_hip_fixed" type="fixed">
        <parent link="LH_HIP"/>
        <child link="LH_hip_fixed"/>
        <origin rpy="-2.61799387799 0 -3.14159265359" xyz="0 0 0"/>
    </joint>
    <!-- Hip link -->
    <link name="LH_hip_fixed">
        <visual>
            <origin rpy="0 0 -3.14159265359" xyz="0 0 0"/>
            <geometry>
                <mesh filename="package://pentapede/meshes/hip_r.dae" scale="1.0 1.0 1.0"/>
            </geometry>
        </visual>
        <inertial>
            <origin rpy="0 0 0" xyz="-0.048 0.008 -0.003"/>
            <mass value="0.74"/>
            <inertia ixx="0.001393106" ixy="-8.4012e-05" ixz="-2.3378e-05" iyy="0.003798579" iyz="7.1319e-05" izz="0.003897509"/>
        </inertial>
    </link>
    <!-- joint hip HFE -->
    <joint name="LH_hip_fixed_LH_HFE" type="fixed">
        <parent link="LH_hip_fixed"/>
        <child link="LH_HFE"/>
        <origin rpy="0 0 1.57079632679" xyz="-0.0599 0.08381 0.0"/>
    </joint>
    <!-- Drive link -->
    <link name="LH_HFE">
        <visual>
            <origin rpy="0 0 0" xyz="0 0 0"/>
            <geometry>
                <mesh filename="package://pentapede/meshes/drive.dae" scale="1.0 1.0 1.0"/>
            </geometry>
        </visual>
        <collision>
            <origin rpy="0 1.57079632679 0" xyz="-0.07 0 0"/>
            <geometry>
                <cylinder length="0.14" radius="0.05"/>
            </geometry>
        </collision>
        <inertial>
            <origin rpy="0 0 0" xyz="-0.063 7e-05 0.00046"/>
            <mass value="2.04"/>
            <inertia ixx="0.001053013" ixy="4.527e-05" ixz="8.855e-05" iyy="0.001805509" iyz="9.909e-05" izz="0.001765827"/>
        </inertial>
    </link>
    <!-- joint Drive output -->
    <joint name="LH_HFE" type="revolute">
        <parent link="LH_HFE"/>
        <child link="LH_THIGH"/>
        <origin rpy="0 0 0" xyz="0 0 0"/>
        <axis xyz="1 0 0"/>
        <limit effort="80.0" lower="-9.42477796077" upper="9.42477796077" velocity="20"/>
        <dynamics damping="0.0" friction="0.0"/>
    </joint>
    <!-- Drive output link -->
    <link name="LH_THIGH">
        <inertial>
            <origin rpy="0 0 0" xyz="0 0 0"/>
            <mass value="0.001"/>
            <inertia ixx="0.000001" ixy="0.0" ixz="0.0" iyy="0.000001" iyz="0.0" izz="0.000001"/>
        </inertial>
    </link>
    <!-- joint HFE thigh -->
    <joint name="LH_THIGH_LH_thigh_fixed" type="fixed">
        <parent link="LH_THIGH"/>
        <child link="LH_thigh_fixed"/>
        <origin rpy="0 0 -1.57079632679" xyz="0 0 0"/>
    </joint>
    <!-- Thigh link -->
    <link name="LH_thigh_fixed">
        <visual>
            <origin rpy="0 0 0.0" xyz="0 0 0"/>
            <geometry>
                <mesh filename="package://pentapede/meshes/thigh.dae" scale="1.0 1.0 1.0"/>
            </geometry>
        </visual>
        <!-- Thigh collision -->
        <collision>
            <origin rpy="1.57079632679 0 0" xyz="0 0.04 0"/>
            <geometry>
                <cylinder length="0.08" radius="0.065"/>
            </geometry>
        </collision>
        <collision>
            <origin rpy="0 0 0" xyz="0 0.03 -0.1413135"/>
            <geometry>
                <box size="0.075 0.06 0.282627"/>
            </geometry>
        </collision>
        <inertial>
            <origin rpy="0 0 0" xyz="-0.0 0.018 -0.169"/>
            <mass value="1.03"/>
            <inertia ixx="0.018644469" ixy="-5.2e-08" ixz="-1.0157e-05" iyy="0.019312599" iyz="0.002520077" izz="0.002838361"/>
        </inertial>
    </link>
    <!-- joint thigh KFE -->
    <joint name="LH_thigh_fixed_LH_KFE" type="fixed">
        <parent link="LH_thigh_fixed"/>
        <child link="LH_KFE"/>
        <origin rpy="0 0 1.57079632679" xyz="-0.0 0.1003 -0.285"/>
    </joint>
    <!-- Drive link -->
    <link name="LH_KFE">
        <visual>
            <origin rpy="0 0 0" xyz="0 0 0"/>
            <geometry>
                <mesh filename="package://pentapede/meshes/drive.dae" scale="1.0 1.0 1.0"/>
            </geometry>
        </visual>
        <collision>
            <origin rpy="0 1.57079632679 0" xyz="-0.07 0 0"/>
            <geometry>
                <cylinder length="0.14" radius="0.05"/>
            </geometry>
        </collision>
        <inertial>
            <origin rpy="0 0 0" xyz="-0.063 7e-05 0.00046"/>
            <mass value="2.04"/>
            <inertia ixx="0.001053013" ixy="4.527e-05" ixz="8.855e-05" iyy="0.001805509" iyz="9.909e-05" izz="0.001765827"/>
        </inertial>
    </link>
    <!-- joint Drive output -->
    <joint name="LH_KFE" type="revolute">
        <parent link="LH_KFE"/>
        <child link="LH_SHANK"/>
        <origin rpy="0 0 0" xyz="0 0 0"/>
        <axis xyz="1 0 0"/>
        <limit effort="80.0" lower="-9.42477796077" upper="9.42477796077" velocity="20"/>
        <dynamics damping="0.0" friction="0.0"/>
    </joint>
    <!-- Drive output link -->
    <link name="LH_SHANK">
        <inertial>
            <origin rpy="0 0 0" xyz="0 0 0"/>
            <mass value="0.001"/>
            <inertia ixx="0.000001" ixy="0.0" ixz="0.0" iyy="0.000001" iyz="0.0" izz="0.000001"/>
        </inertial>
    </link>
    <!-- joint KFE shank -->
    <joint name="LH_shank_LH_shank_fixed" type="fixed">
        <parent link="LH_SHANK"/>
        <child link="LH_shank_fixed"/>
        <origin rpy="0 0 -1.57079632679" xyz="0 0 0"/>
    </joint>
    <!-- Shank link -->
    <link name="LH_shank_fixed">
        <visual>
            <origin rpy="0 0 -3.14159265359" xyz="0 0 0"/>
            <geometry>
                <mesh filename="package://pentapede/meshes/shank_r.dae" scale="1.0 1.0 1.0"/>
            </geometry>
        </visual>
        <!-- Shank collision -->
        <!-- <collision>
            <origin rpy="1.57079632679 0 0" xyz="0 0.02 0"/>
            <geometry>
                <cylinder length="0.04" radius="0.06"/>
            </geometry>
        </collision>
        <collision>
            <origin rpy="1.57079632679 0 0" xyz="-0.057499 0.02 0"/>
            <geometry>
                <box size="0.114998 0.0675 0.04"/>
            </geometry>
        </collision> -->
        <inertial>
            <origin rpy="0 0 0" xyz="-0.03463 0.00688 0.00098"/>
            <mass value="0.33742"/>
            <inertia ixx="0.00032748005" ixy="-2.142561e-05" ixz="-1.33942e-05" iyy="0.00110974122" iyz="7.601e-08" izz="0.00089388521"/>
        </inertial>
    </link>
    <!-- Leg configurations: xx (knees bent inwards), xo (knees bent backwards) -->
    <!-- joint shank foot -->
    <joint name="LH_shank_fixed_LH_FOOT" type="fixed">
        <parent link="LH_shank_fixed"/>
        <child link="LH_FOOT"/>
        <origin rpy="0 0 0" xyz="-0.08795 0.01305 -0.33797"/>
    </joint>
    <!-- Foot link -->
    <link name="LH_FOOT">
        <visual>
            <origin rpy="0 0 -2.35619449019" xyz="0 0 0"/>
            <geometry>
                <mesh filename="package://pentapede/meshes/foot.dae" scale="1.0 1.0 1.0"/>
            </geometry>
        </visual>
        <!-- Adapter collision -->
        <collision>
            <origin rpy="0 0 0" xyz="0 0 0.168985"/>
            <geometry>
                <cylinder length="0.282504" radius="0.0175"/>
            </geometry>
        </collision>
        <!-- Foot collision -->
        <collision>
            <origin xyz="0 0 0.0225"/>
            <geometry>
                <sphere radius="0.03"/>
            </geometry>
        </collision>
        <inertial>
            <origin rpy="0 0 0" xyz="-0.00948 -0.00948 0.1468"/>
            <mass value="0.25"/>
            <inertia ixx="0.00317174097" ixy="-2.63048e-06" ixz="-6.815581e-05" iyy="0.00317174092" iyz="6.815583e-05" izz="8.319196e-05"/>
        </inertial>
    </link>
    <!-- joint base HAA -->
    <joint name="base_RH_HAA" type="fixed">
        <parent link="base"/>
        <child link="RH_HAA"/>
        <origin rpy="2.61799387799 0 -3.14159265359" xyz="-0.2999 -0.104 0.0"/>
    </joint>
    <!-- Drive link -->
    <link name="RH_HAA">
        <visual>
            <origin rpy="0 0 0" xyz="0 0 0"/>
            <geometry>
                <mesh filename="package://pentapede/meshes/drive.dae" scale="1.0 1.0 1.0"/>
            </geometry>
        </visual>
        <inertial>
            <origin rpy="0 0 0" xyz="-0.063 7e-05 0.00046"/>
            <mass value="2.04"/>
            <inertia ixx="0.001053013" ixy="4.527e-05" ixz="8.855e-05" iyy="0.001805509" iyz="9.909e-05" izz="0.001765827"/>
        </inertial>
    </link>
    <!-- joint Drive output -->
    <joint name="RH_HAA" type="revolute">
        <parent link="RH_HAA"/>
        <child link="RH_HIP"/>
        <origin rpy="0 0 0" xyz="0 0 0"/>
        <axis xyz="-1 0 0"/>
        <limit effort="80.0" lower="-0.49" upper="0.72" velocity="20"/>
        <dynamics damping="0.0" friction="0.0"/>
    </joint>
    <!-- Drive output link -->
    <link name="RH_HIP">
        <inertial>
            <origin rpy="0 0 0" xyz="0 0 0"/>
            <mass value="0.001"/>
            <inertia ixx="0.000001" ixy="0.0" ixz="0.0" iyy="0.000001" iyz="0.0" izz="0.000001"/>
        </inertial>
    </link>
    <!-- joint HAA hip -->
    <joint name="RH_HIP_RH_hip_fixed" type="fixed">
        <parent link="RH_HIP"/>
        <child link="RH_hip_fixed"/>
        <origin rpy="2.61799387799 0 -3.14159265359" xyz="0 0 0"/>
    </joint>
    <!-- Hip link -->
    <link name="RH_hip_fixed">
        <visual>
            <origin rpy="0 0 -3.14159265359" xyz="0 0 0"/>
            <geometry>
                <mesh filename="package://pentapede/meshes/hip_l.dae" scale="1.0 1.0 1.0"/>
            </geometry>
        </visual>
        <inertial>
            <origin rpy="0 0 0" xyz="-0.048 -0.008 -0.003"/>
            <mass value="0.74"/>
            <inertia ixx="0.001393106" ixy="8.4012e-05" ixz="-2.3378e-05" iyy="0.003798579" iyz="-7.1319e-05" izz="0.003897509"/>
        </inertial>
    </link>
    <!-- joint hip HFE -->
    <joint name="RH_hip_fixed_RH_HFE" type="fixed">
        <parent link="RH_hip_fixed"/>
        <child link="RH_HFE"/>
        <origin rpy="0 0 -1.57079632679" xyz="-0.0599 -0.08381 0.0"/>
    </joint>
    <!-- Drive link -->
    <link name="RH_HFE">
        <visual>
            <origin rpy="0 0 0" xyz="0 0 0"/>
            <geometry>
                <mesh filename="package://pentapede/meshes/drive.dae" scale="1.0 1.0 1.0"/>
            </geometry>
        </visual>
        <collision>
            <origin rpy="0 1.57079632679 0" xyz="-0.07 0 0"/>
            <geometry>
                <cylinder length="0.14" radius="0.05"/>
            </geometry>
        </collision>
        <inertial>
            <origin rpy="0 0 0" xyz="-0.063 7e-05 0.00046"/>
            <mass value="2.04"/>
            <inertia ixx="0.001053013" ixy="4.527e-05" ixz="8.855e-05" iyy="0.001805509" iyz="9.909e-05" izz="0.001765827"/>
        </inertial>
    </link>
    <!-- joint Drive output -->
    <joint name="RH_HFE" type="revolute">
        <parent link="RH_HFE"/>
        <child link="RH_THIGH"/>
        <origin rpy="0 0 0" xyz="0 0 0"/>
        <axis xyz="-1 0 0"/>
        <limit effort="80.0" lower="-9.42477796077" upper="9.42477796077" velocity="20"/>
        <dynamics damping="0.0" friction="0.0"/>
    </joint>
    <!-- Drive output link -->
    <link name="RH_THIGH">
        <inertial>
            <origin rpy="0 0 0" xyz="0 0 0"/>
            <mass value="0.001"/>
            <inertia ixx="0.000001" ixy="0.0" ixz="0.0" iyy="0.000001" iyz="0.0" izz="0.000001"/>
        </inertial>
    </link>
    <!-- joint HFE thigh -->
    <joint name="RH_THIGH_RH_thigh_fixed" type="fixed">
        <parent link="RH_THIGH"/>
        <child link="RH_thigh_fixed"/>
        <origin rpy="0 0 1.57079632679" xyz="0 0 0"/>
    </joint>
    <!-- Thigh link -->
    <link name="RH_thigh_fixed">
        <visual>
            <origin rpy="0 0 -3.14159265359" xyz="0 0 0"/>
            <geometry>
                <mesh filename="package://pentapede/meshes/thigh.dae" scale="1.0 1.0 1.0"/>
            </geometry>
        </visual>
        <!-- Thigh collision -->
        <collision>
            <origin rpy="1.57079632679 0 0" xyz="0 -0.04 0"/>
            <geometry>
                <cylinder length="0.08" radius="0.065"/>
            </geometry>
        </collision>
        <collision>
            <origin rpy="0 0 0" xyz="0 -0.03 -0.1413135"/>
            <geometry>
                <box size="0.075 0.06 0.282627"/>
            </geometry>
        </collision>
        <inertial>
            <origin rpy="0 0 0" xyz="-0.0 -0.018 -0.169"/>
            <mass value="1.03"/>
            <inertia ixx="0.018644469" ixy="5.2e-08" ixz="-1.0157e-05" iyy="0.019312599" iyz="-0.002520077" izz="0.002838361"/>
        </inertial>
    </link>
    <!-- joint thigh KFE -->
    <joint name="RH_thigh_fixed_RH_KFE" type="fixed">
        <parent link="RH_thigh_fixed"/>
        <child link="RH_KFE"/>
        <origin rpy="0 0 -1.57079632679" xyz="-0.0 -0.1003 -0.285"/>
    </joint>
    <!-- Drive link -->
    <link name="RH_KFE">
        <visual>
            <origin rpy="0 0 0" xyz="0 0 0"/>
            <geometry>
                <mesh filename="package://pentapede/meshes/drive.dae" scale="1.0 1.0 1.0"/>
            </geometry>
        </visual>
        <collision>
            <origin rpy="0 1.57079632679 0" xyz="-0.07 0 0"/>
            <geometry>
                <cylinder length="0.14" radius="0.05"/>
            </geometry>
        </collision>
        <inertial>
            <origin rpy="0 0 0" xyz="-0.063 7e-05 0.00046"/>
            <mass value="2.04"/>
            <inertia ixx="0.001053013" ixy="4.527e-05" ixz="8.855e-05" iyy="0.001805509" iyz="9.909e-05" izz="0.001765827"/>
        </inertial>
    </link>
    <!-- joint Drive output -->
    <joint name="RH_KFE" type="revolute">
        <parent link="RH_KFE"/>
        <child link="RH_SHANK"/>
        <origin rpy="0 0 0" xyz="0 0 0"/>
        <axis xyz="-1 0 0"/>
        <limit effort="80.0" lower="-9.42477796077" upper="9.42477796077" velocity="20"/>
        <dynamics damping="0.0" friction="0.0"/>
    </joint>
    <!-- Drive output link -->
    <link name="RH_SHANK">
        <inertial>
            <origin rpy="0 0 0" xyz="0 0 0"/>
            <mass value="0.001"/>
            <inertia ixx="0.000001" ixy="0.0" ixz="0.0" iyy="0.000001" iyz="0.0" izz="0.000001"/>
        </inertial>
    </link>
    <!-- joint KFE shank -->
    <joint name="RH_shank_RH_shank_fixed" type="fixed">
        <parent link="RH_SHANK"/>
        <child link="RH_shank_fixed"/>
        <origin rpy="0 0 1.57079632679" xyz="0 0 0"/>
    </joint>
    <!-- Shank link -->
    <link name="RH_shank_fixed">
        <visual>
            <origin rpy="0 0 -3.14159265359" xyz="0 0 0"/>
            <geometry>
                <mesh filename="package://pentapede/meshes/shank_l.dae" scale="1.0 1.0 1.0"/>
            </geometry>
        </visual>
        <!-- Shank collision -->
        <!-- <collision>
            <origin rpy="1.57079632679 0 0" xyz="0 -0.02 0"/>
            <geometry>
                <cylinder length="0.04" radius="0.06"/>
            </geometry>
        </collision>
        <collision>
            <origin rpy="1.57079632679 0 0" xyz="-0.057499 -0.02 0"/>
            <geometry>
                <box size="0.114998 0.0675 0.04"/>
            </geometry>
        </collision> -->
        <inertial>
            <origin rpy="0 0 0" xyz="-0.03463 -0.00688 0.00098"/>
            <mass value="0.33742"/>
            <inertia ixx="0.00032748005" ixy="2.142561e-05" ixz="-1.33942e-05" iyy="0.00110974122" iyz="-7.601e-08" izz="0.00089388521"/>
        </inertial>
    </link>
    <!-- Leg configurations: xx (knees bent inwards), xo (knees bent backwards) -->
    <!-- joint shank foot -->
    <joint name="RH_shank_fixed_RH_FOOT" type="fixed">
        <parent link="RH_shank_fixed"/>
        <child link="RH_FOOT"/>
        <origin rpy="0 0 0" xyz="-0.08795 -0.01305 -0.33797"/>
    </joint>
    <!-- Foot link -->
    <link name="RH_FOOT">
        <visual>
            <origin rpy="0 0 -3.92699081699" xyz="0 0 0"/>
            <geometry>
                <mesh filename="package://pentapede/meshes/foot.dae" scale="1.0 1.0 1.0"/>
            </geometry>
        </visual>
        <!-- Adapter collision -->
        <collision>
            <origin rpy="0 0 0" xyz="0 0 0.168985"/>
            <geometry>
                <cylinder length="0.282504" radius="0.0175"/>
            </geometry>
        </collision>
        <!-- Foot collision -->
        <collision>
            <origin xyz="0 0 0.0225"/>
            <geometry>
                <sphere radius="0.03"/>
            </geometry>
        </collision>
        <inertial>
            <origin rpy="0 0 0" xyz="-0.00948 0.00948 0.1468"/>
            <mass value="0.25"/>
            <inertia ixx="0.00317174097" ixy="2.63048e-06" ixz="-6.815581e-05" iyy="0.00317174092" iyz="-6.815583e-05" izz="8.319196e-05"/>
        </inertial>
    </link>
    <!-- Fixed joint base hatch -->
    <joint name="base_hatch" type="fixed">
        <parent link="base"/>
        <child link="hatch"/>
        <origin rpy="0 0 0" xyz="0.0 0.0 0.0"/>
    </joint>
    <!-- Hatch link -->
    <link name="hatch">
        <visual>
            <origin rpy="0 0 0" xyz="0.116 0 0.073"/>
            <geometry>
                <mesh filename="package://pentapede/meshes/hatch.dae" scale="1.0 1.0 1.0"/>
            </geometry>
        </visual>
        <inertial>
            <origin rpy="0 0 0" xyz="0.116 0.0 0.0758"/>
            <mass value="0.142"/>
            <inertia ixx="0.001" ixy="0.001" ixz="0.001" iyy="0.001" iyz="0.001" izz="0.001"/>
        </inertial>
    </link>
    <!-- End quadropod -->

    <!-- Begin arm -->
    <!-- <material name="interbotix_black">
    <texture filename="package://pentapede/meshes/interbotix_black.png"/>
  </material> -->
  <link name="wx250s/base_link">
    <visual>
      <origin rpy="0 0 1.57079632679" xyz="0 0 0"/>
      <geometry>
        <mesh filename="package://pentapede/meshes/wx250s_1_base.stl" scale="0.001 0.001 0.001"/>
      </geometry>
      <material name="black"/>
    </visual>
    <collision>
      <origin rpy="0 0 1.57079632679" xyz="0 0 0"/>
      <geometry>
        <mesh filename="package://pentapede/meshes/wx250s_1_base.stl" scale="0.001 0.001 0.001"/>
      </geometry>
    </collision>
    <inertial>
      <origin rpy="0 0 1.57079632679" xyz="-0.0380446000 0.0006138920 0.0193354000"/>
      <mass value="0.538736"/>
      <inertia ixx="0.0021150000" ixy="-0.0000163500" ixz="0.0000006998" iyy="0.0006921000" iyz="0.0000464200" izz="0.0025240000"/>
    </inertial>
  </link>
  <joint name="waist" type="revolute">
    <axis xyz="0 0 1"/>
    <limit effort="10" lower="-3.14158265359" upper="3.14158265359" velocity="3.14159265359"/>
    <origin rpy="0 0 0" xyz="0 0 0.072"/>
    <parent link="wx250s/base_link"/>
    <child link="wx250s/shoulder_link"/>
    <dynamics friction="0.1"/>
  </joint>
  <transmission name="trans_waist">
    <type>transmission_interface/SimpleTransmission</type>
    <joint name="waist">
      <hardwareInterface>hardware_interface/EffortJointInterface</hardwareInterface>
    </joint>
    <actuator name="waist_motor">
      <mechanicalReduction>1</mechanicalReduction>
    </actuator>
  </transmission>
  <link name="wx250s/shoulder_link">
    <visual>
      <origin rpy="0 0 1.57079632679" xyz="0 0 -0.003"/>
      <geometry>
        <mesh filename="package://pentapede/meshes/wx250s_2_shoulder.stl" scale="0.001 0.001 0.001"/>
      </geometry>
      <material name="black"/>
    </visual>
    <collision>
      <origin rpy="0 0 1.57079632679" xyz="0 0 -0.003"/>
      <geometry>
        <mesh filename="package://pentapede/meshes/wx250s_2_shoulder.stl" scale="0.001 0.001 0.001"/>
      </geometry>
    </collision>
    <inertial>
      <origin rpy="0 0 1.57079632679" xyz="0.0000223482 0.0000414609 0.0066287000"/>
      <mass value="0.480879"/>
      <inertia ixx="0.0003790000" ixy="0.0000000022" ixz="-0.0000003561" iyy="0.0005557000" iyz="0.0000012245" izz="0.0005889000"/>
    </inertial>
  </link>
  <joint name="shoulder" type="revolute">
    <axis xyz="0 1 0"/>
    <limit effort="20" lower="-1.88495559215" upper="1.98967534727" velocity="3.14159265359"/>
    <origin rpy="0 0 0" xyz="0 0 0.03865"/>
    <parent link="wx250s/shoulder_link"/>
    <child link="wx250s/upper_arm_link"/>
    <dynamics friction="0.1"/>
  </joint>
  <transmission name="trans_shoulder">
    <type>transmission_interface/SimpleTransmission</type>
    <joint name="shoulder">
      <hardwareInterface>hardware_interface/EffortJointInterface</hardwareInterface>
    </joint>
    <actuator name="shoulder_motor">
      <mechanicalReduction>1</mechanicalReduction>
    </actuator>
  </transmission>
  <link name="wx250s/upper_arm_link">
    <visual>
      <origin rpy="0 0 1.57079632679" xyz="0 0 0"/>
      <geometry>
        <mesh filename="package://pentapede/meshes/wx250s_3_upper_arm.stl" scale="0.001 0.001 0.001"/>
      </geometry>
      <material name="black"/>
    </visual>
    <collision>
      <origin rpy="0 0 1.57079632679" xyz="0 0 0"/>
      <geometry>
        <mesh filename="package://pentapede/meshes/wx250s_3_upper_arm.stl" scale="0.001 0.001 0.001"/>
      </geometry>
    </collision>
    <inertial>
      <origin rpy="0 0 1.57079632679" xyz="0.0171605000 0.0000002725 0.1913230000"/>
      <mass value="0.430811"/>
      <inertia ixx="0.0034630000" ixy="-0.0000000001" ixz="-0.0000000002" iyy="0.0035870000" iyz="0.0004272000" izz="0.0004566000"/>
    </inertial>
  </link>
  <joint name="elbow" type="revolute">
    <axis xyz="0 1 0"/>
    <limit effort="15" lower="-2.14675497995" upper="1.60570291183" velocity="3.14159265359"/>
    <origin rpy="0 0 0" xyz="0.04975 0 0.25"/>
    <parent link="wx250s/upper_arm_link"/>
    <child link="wx250s/upper_forearm_link"/>
    <dynamics friction="0.1"/>
  </joint>
  <transmission name="trans_elbow">
    <type>transmission_interface/SimpleTransmission</type>
    <joint name="elbow">
      <hardwareInterface>hardware_interface/EffortJointInterface</hardwareInterface>
    </joint>
    <actuator name="elbow_motor">
      <mechanicalReduction>1</mechanicalReduction>
    </actuator>
  </transmission>
  <link name="wx250s/upper_forearm_link">
    <visual>
      <origin rpy="0 0 0" xyz="0 0 0"/>
      <geometry>
        <mesh filename="package://pentapede/meshes/wx250s_4_upper_forearm.stl" scale="0.001 0.001 0.001"/>
      </geometry>
      <material name="black"/>
    </visual>
    <collision>
      <origin rpy="0 0 0" xyz="0 0 0"/>
      <geometry>
        <mesh filename="package://pentapede/meshes/wx250s_4_upper_forearm.stl" scale="0.001 0.001 0.001"/>
      </geometry>
    </collision>
    <inertial>
      <origin rpy="0 0 0" xyz="0.1079630000 0.0001158760 0"/>
      <mass value="0.234589"/>
      <inertia ixx="0.0000397100" ixy="0.0000023528" ixz="0" iyy="0.0008878000" iyz="0" izz="0.0008880000"/>
    </inertial>
  </link>
  <joint name="forearm_roll" type="revolute">
    <axis xyz="1 0 0"/>
    <limit effort="2" lower="-3.14158265359" upper="3.14158265359" velocity="3.14159265359"/>
    <origin rpy="0 0 0" xyz="0.175 0 0"/>
    <parent link="wx250s/upper_forearm_link"/>
    <child link="wx250s/lower_forearm_link"/>
    <dynamics friction="0.1"/>
  </joint>
  <transmission name="trans_forearm_roll">
    <type>transmission_interface/SimpleTransmission</type>
    <joint name="forearm_roll">
      <hardwareInterface>hardware_interface/EffortJointInterface</hardwareInterface>
    </joint>
    <actuator name="forearm_roll_motor">
      <mechanicalReduction>1</mechanicalReduction>
    </actuator>
  </transmission>
  <link name="wx250s/lower_forearm_link">
    <visual>
      <origin rpy="3.14159265359 0 0" xyz="0 0 0"/>
      <geometry>
        <mesh filename="package://pentapede/meshes/wx250s_5_lower_forearm.stl" scale="0.001 0.001 0.001"/>
      </geometry>
      <material name="black"/>
    </visual>
    <collision>
      <origin rpy="3.14159265359 0 0" xyz="0 0 0"/>
      <geometry>
        <mesh filename="package://pentapede/meshes/wx250s_5_lower_forearm.stl" scale="0.001 0.001 0.001"/>
      </geometry>
    </collision>
    <inertial>
      <origin rpy="3.14159265359 0 0" xyz="0.0374395000 0.0052225200 0"/>
      <mass value="0.220991"/>
      <inertia ixx="0.0000636900" ixy="-0.0000229200" ixz="0" iyy="0.0001677000" iyz="0" izz="0.0001834000"/>
    </inertial>
  </link>
  <joint name="wrist_angle" type="revolute">
    <axis xyz="0 1 0"/>
    <limit effort="5" lower="-1.74532925199" upper="2.14675497995" velocity="3.14159265359"/>
    <origin rpy="0 0 0" xyz="0.075 0 0"/>
    <parent link="wx250s/lower_forearm_link"/>
    <child link="wx250s/wrist_link"/>
    <dynamics friction="0.1"/>
  </joint>
  <transmission name="trans_wrist_angle">
    <type>transmission_interface/SimpleTransmission</type>
    <joint name="wrist_angle">
      <hardwareInterface>hardware_interface/EffortJointInterface</hardwareInterface>
    </joint>
    <actuator name="wrist_angle_motor">
      <mechanicalReduction>1</mechanicalReduction>
    </actuator>
  </transmission>
  <link name="wx250s/wrist_link">
    <visual>
      <origin rpy="0 0 1.57079632679" xyz="0 0 0"/>
      <geometry>
        <mesh filename="package://pentapede/meshes/wx250s_6_wrist.stl" scale="0.001 0.001 0.001"/>
      </geometry>
      <material name="black"/>
    </visual>
    <collision>
      <origin rpy="0 0 1.57079632679" xyz="0 0 0"/>
      <geometry>
        <mesh filename="package://pentapede/meshes/wx250s_6_wrist.stl" scale="0.001 0.001 0.001"/>
      </geometry>
    </collision>
    <inertial>
      <origin rpy="0 0 1.57079632679" xyz="0.0423600000 -0.0000106630 0.0105770000"/>
      <mass value="0.084957"/>
      <inertia ixx="0.0000308200" ixy="0.0000000191" ixz="0.0000000023" iyy="0.0000282200" iyz="0.0000025481" izz="0.0000315200"/>
    </inertial>
  </link>
  <joint name="wrist_rotate" type="revolute">
    <axis xyz="1 0 0"/>
    <limit effort="1" lower="-3.14158265359" upper="3.14158265359" velocity="3.14159265359"/>
    <origin rpy="0 0 0" xyz="0.065 0 0"/>
    <parent link="wx250s/wrist_link"/>
    <child link="wx250s/gripper_link"/>
    <dynamics friction="0.1"/>
  </joint>
  <transmission name="trans_wrist_rotate">
    <type>transmission_interface/SimpleTransmission</type>
    <joint name="wrist_rotate">
      <hardwareInterface>hardware_interface/EffortJointInterface</hardwareInterface>
    </joint>
    <actuator name="wrist_rotate_motor">
      <mechanicalReduction>1</mechanicalReduction>
    </actuator>
  </transmission>
  <link name="wx250s/gripper_link">
    <visual>
      <origin rpy="0 0 0" xyz="0 0 0"/>
      <geometry>
        <box size="0.01 0.01 0.01" />
      </geometry>
      <material name="Cyan">
        <color rgba="0 1.0 1.0 1.0"/>
      </material>
    </visual>
    <collision>
      <origin rpy="0 0 1.57079632679" xyz="-0.02 0 0"/>
      <geometry>
        <mesh filename="package://pentapede/meshes/wx250s_7_gripper.stl" scale="0.001 0.001 0.001"/>
      </geometry>
    </collision>
    <inertial>
      <origin rpy="0 0 1.57079632679" xyz="0.0216310000 0.0000002516 0.0114100000"/>
      <mass value="0.072885"/>
      <inertia ixx="0.0000253700" ixy="0.0000000000" ixz="0.0000000000" iyy="0.0000183600" iyz="0.0000004340" izz="0.0000167400"/>
    </inertial>
  </link>
  <!-- End arm -->

  <!-- Connect them TODO inertia-->
  <joint name="quad_to_arm" type="fixed">
    <axis xyz="0 0 0"/>
    <origin rpy="0 0 0" xyz="0 0 0.07"/>
    <parent link="base"/>
    <child link="wx250s/base_link"/>
  </joint>

</robot>
